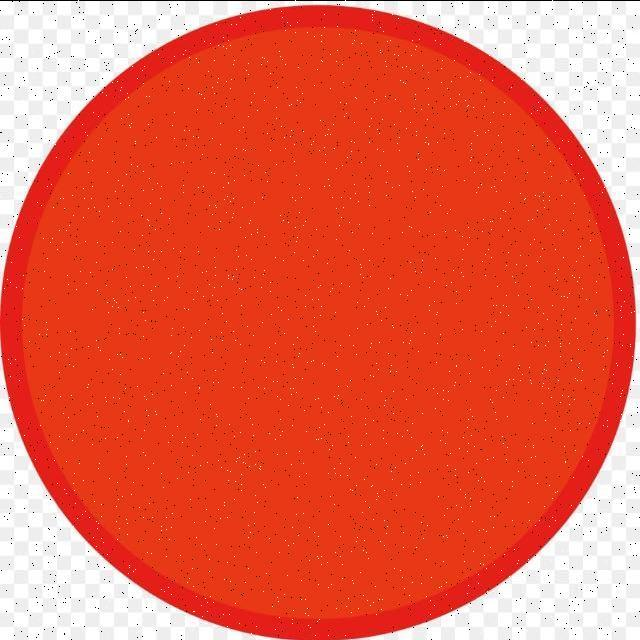Circle: (2, 6, 630, 638)
